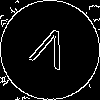V: (25, 25, 72, 80)
